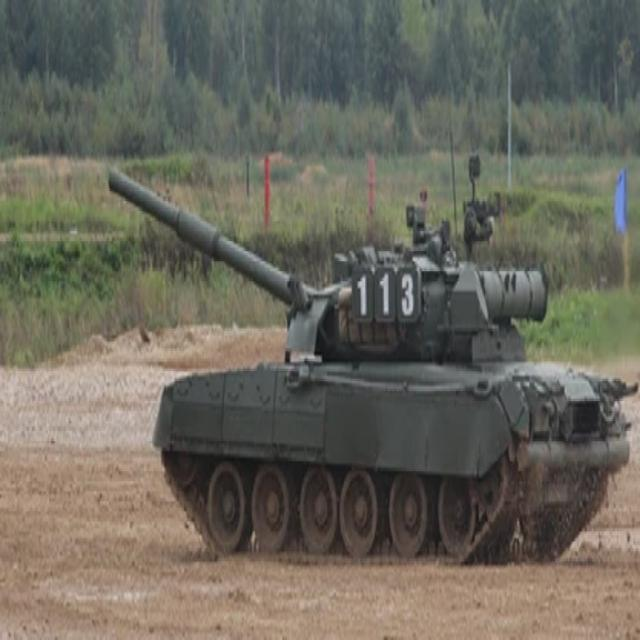TANK: (100, 161, 632, 569)
